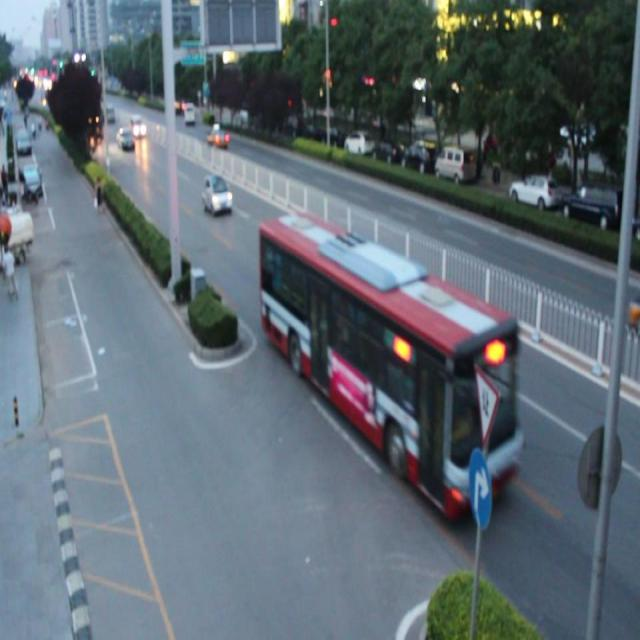car: (200, 174, 231, 215), (204, 124, 227, 147)
van: (258, 208, 518, 516)
